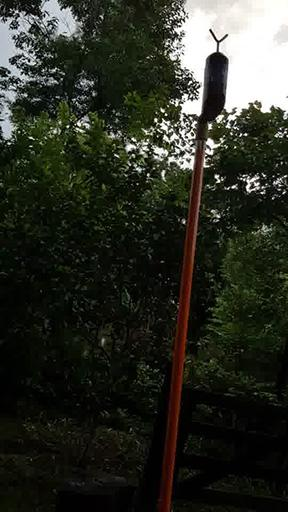Detector_Tensao_Contato: (200, 29, 232, 120)
Vara_Manobra: (159, 120, 213, 512)
